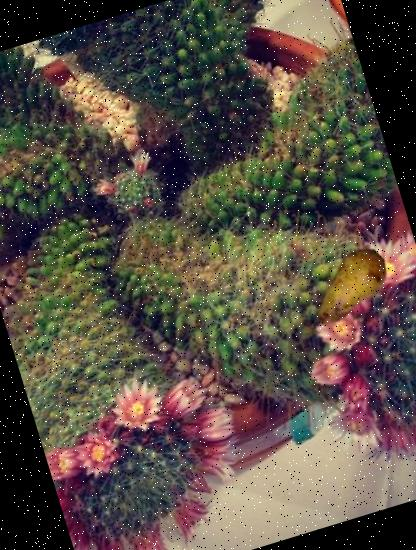Pear: (292, 230, 406, 344)
